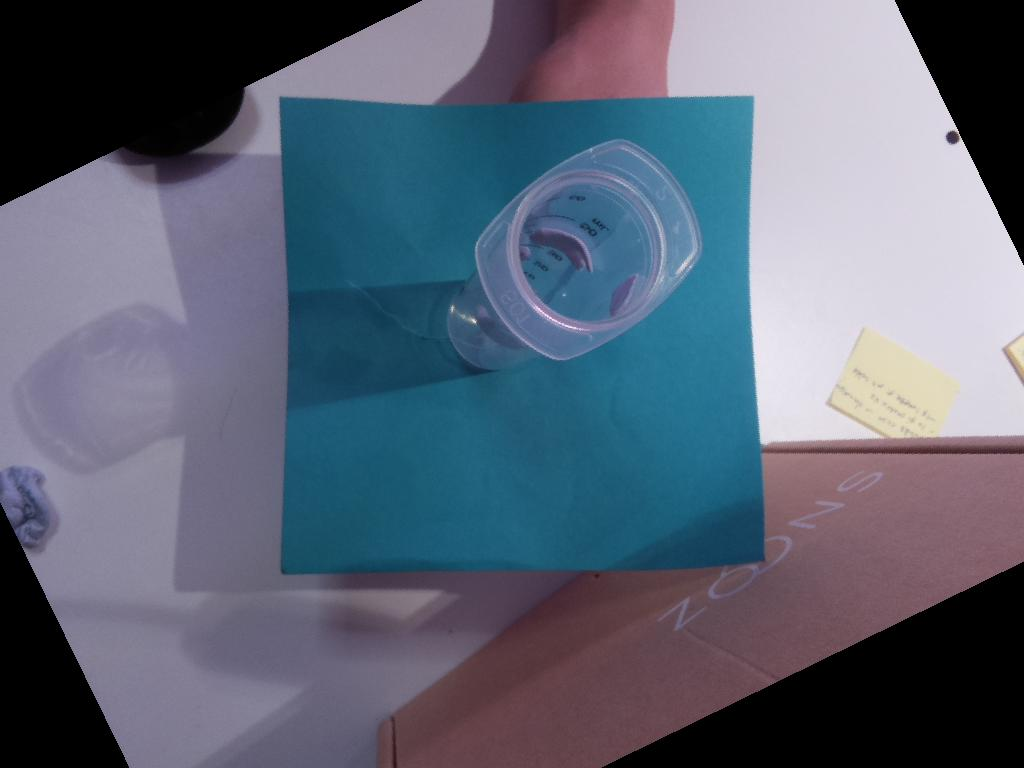dirty: (474, 139, 704, 361)
